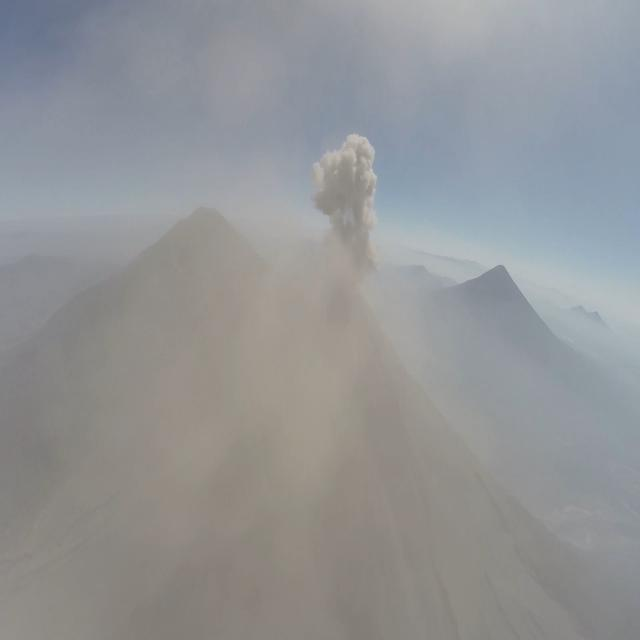Plume: (306, 118, 391, 298)
